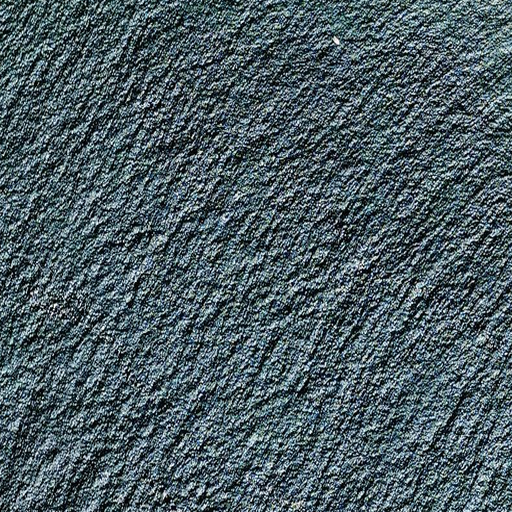ship: (331, 35, 340, 46)
